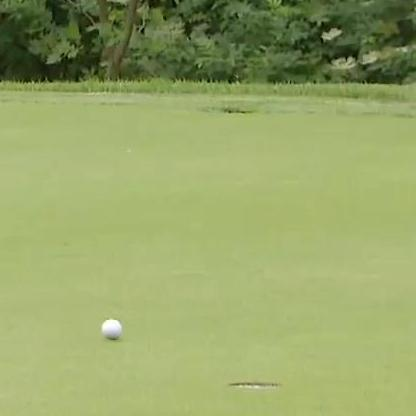golfball: (98, 314, 121, 339)
